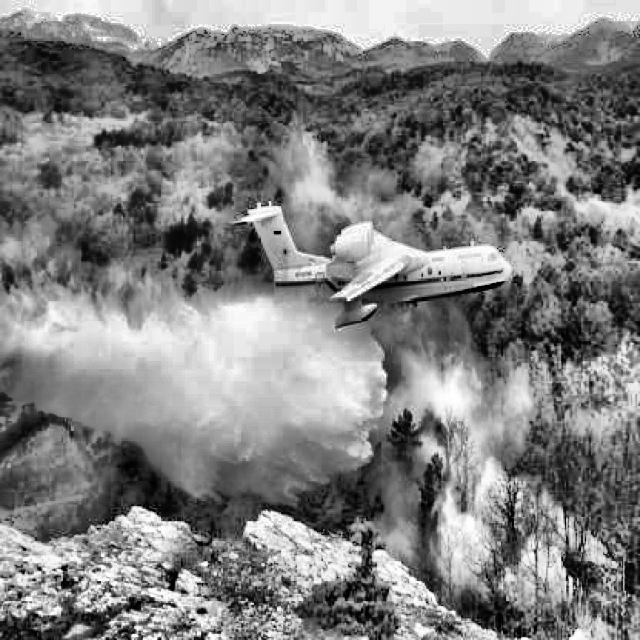Be200: (231, 200, 512, 329)
